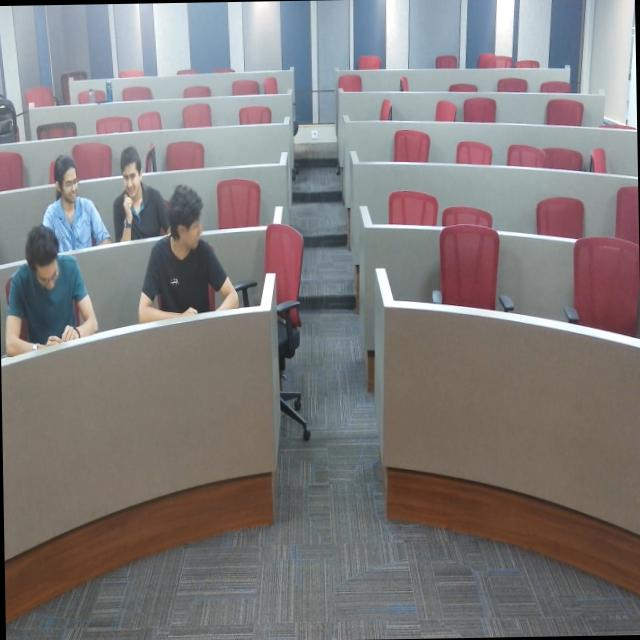cheating: (113, 138, 159, 232), (46, 148, 85, 245)
non-cheating: (2, 212, 88, 369)
